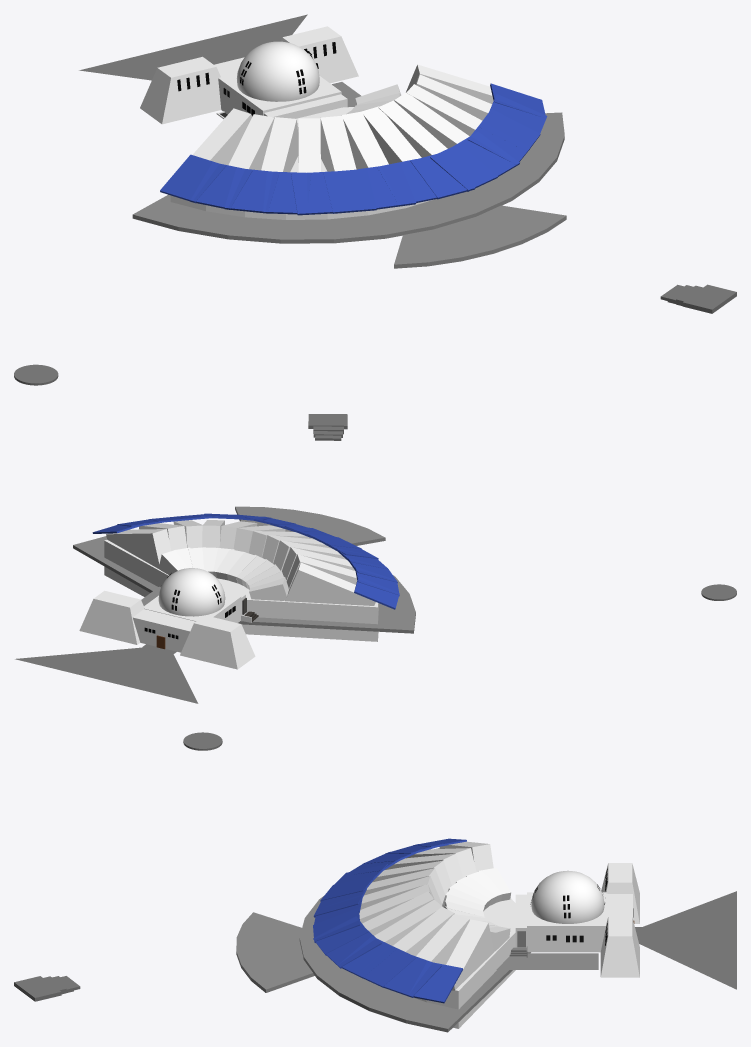
File: nyasta_asmundarsafnid_1.obj
3 renders of one model, top to bottom at view 1: azimuth 30°, elevation 25°; view 2: azimuth 150°, elevation 25°; view 3: azimuth 270°, elevation 25°, orthographic. The views are drawn at different scales.
Parts seen in each view (by area): view 1: Cube.047, Cube.033, Cylinder.001, Cylinder.002, Plane, Sphere, h_hlid, v_hlid, syningarsalur, innanhus, Cube, Cube.019 (+1 smaller); view 2: Cube.033, syningarsalur, Plane, Cube.047, Cylinder.001, h_hlid, Sphere, v_hlid, Cylinder.002, adaldyr, Cube, innanhus (+1 smaller); view 3: Cube.033, Cube.047, Plane, Cylinder.001, Cylinder.002, Sphere, innanhus, syningarsalur, v_hlid, Plane.001, h_hlid, Cube (+3 smaller).
Part boxes in pixels (left/top/right/bottom): Cube.047: left=160, top=83, right=547, bottom=215; Cube.033: left=192, top=64, right=493, bottom=172; Cylinder.001: left=132, top=112, right=564, bottom=243; Cylinder.002: left=394, top=205, right=566, bottom=268; Plane: left=79, top=14, right=307, bottom=80; Sphere: left=236, top=41, right=319, bottom=101; h_hlid: left=140, top=56, right=221, bottom=124; v_hlid: left=280, top=26, right=358, bottom=83; syningarsalur: left=170, top=107, right=433, bottom=219; innanhus: left=218, top=72, right=341, bottom=116; Cube: left=660, top=284, right=736, bottom=313; Cube.019: left=263, top=94, right=347, bottom=118; Cube.033: left=106, top=520, right=375, bottom=605; syningarsalur: left=104, top=539, right=378, bottom=641; Plane: left=15, top=644, right=198, bottom=703; Cube.047: left=92, top=513, right=399, bottom=609; Cylinder.001: left=73, top=536, right=415, bottom=633; h_hlid: left=180, top=615, right=255, bottom=669; Sphere: left=158, top=568, right=225, bottom=616; v_hlid: left=79, top=590, right=144, bottom=644; Cylinder.002: left=235, top=506, right=385, bottom=545; adaldyr: left=132, top=609, right=195, bottom=652; Cube: left=308, top=414, right=347, bottom=440; innanhus: left=144, top=592, right=241, bottom=622; Cube.033: left=359, top=841, right=511, bottom=990; Cube.047: left=313, top=838, right=466, bottom=1003; Plane: left=635, top=891, right=736, bottom=989; Cylinder.001: left=299, top=848, right=530, bottom=1032; Cylinder.002: left=236, top=912, right=314, bottom=992; Sphere: left=531, top=870, right=604, bottom=923; innanhus: left=527, top=892, right=607, bottom=952; syningarsalur: left=414, top=898, right=515, bottom=1028; v_hlid: left=600, top=917, right=639, bottom=977; Plane.001: left=496, top=953, right=598, bottom=969; h_hlid: left=601, top=863, right=639, bottom=923; Cube: left=14, top=976, right=80, bottom=1001.
Bounding box in the file's own units: 71.2 × 9.13 × 73.85.
